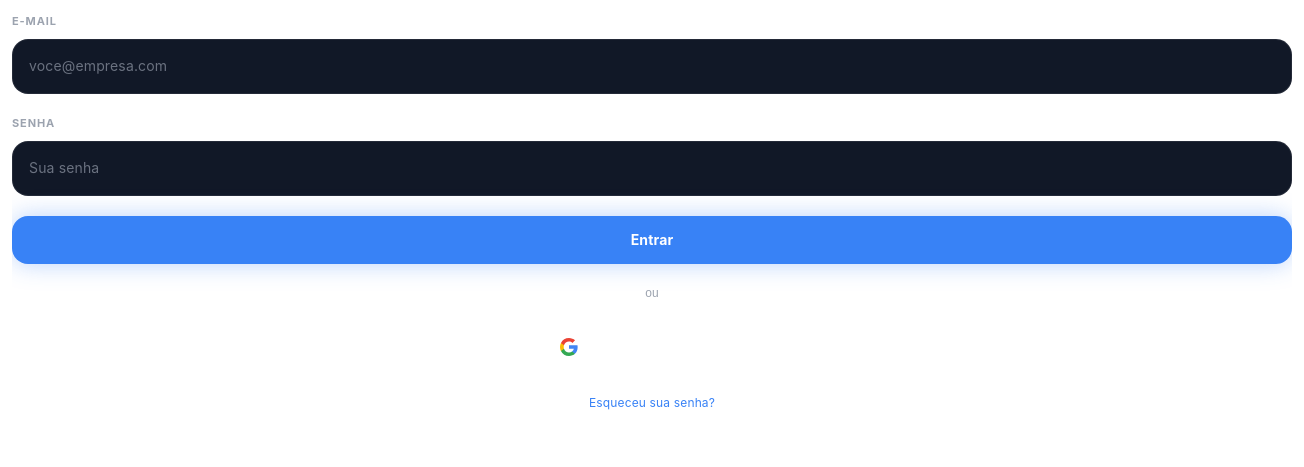
<LoginForm /> › exige a senha
This screenshot has width=1304, height=467.
Step 1. Type "a@b.com" into the field with placeholder "voce@empresa.com" → {"x": 652, "y": 66}, box [29,52,1275,81]
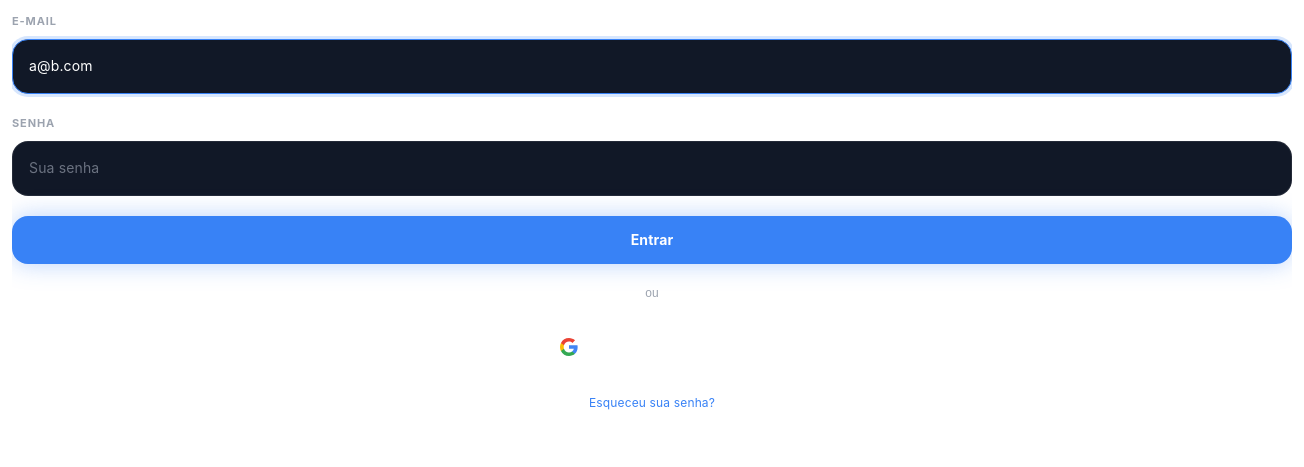
Step 2. Click the button "Entrar" → {"x": 652, "y": 240}, box [12,216,1292,264]
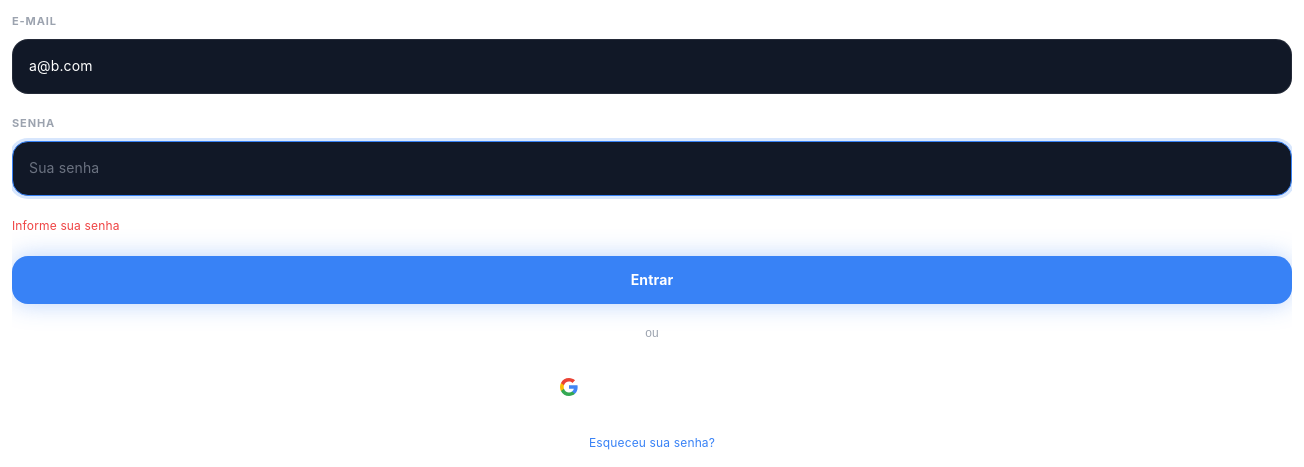
Check: the text "Informe sua senha" is shown, box [12,218,120,233]
